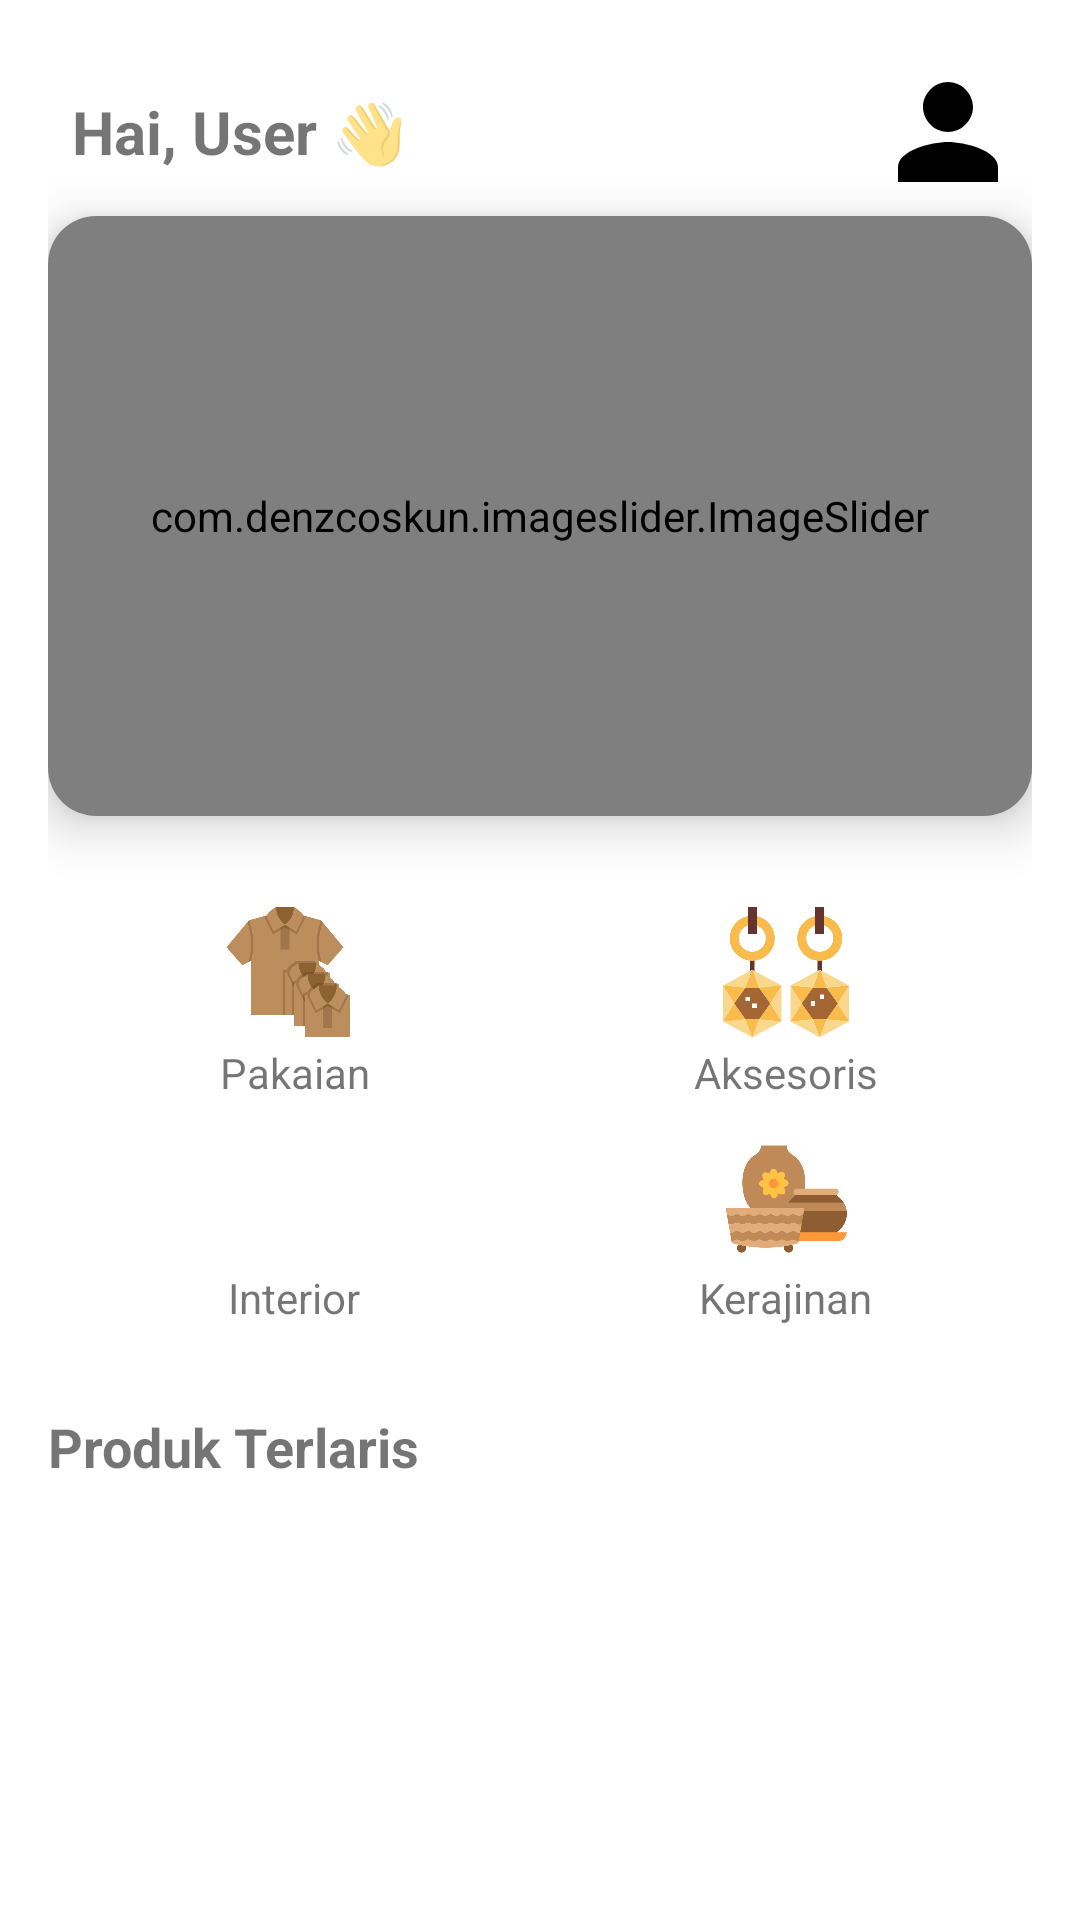

Named icons in this screenshot (1080×1920) and their centers, [x,y]:
Foto Profil: [948,132]
